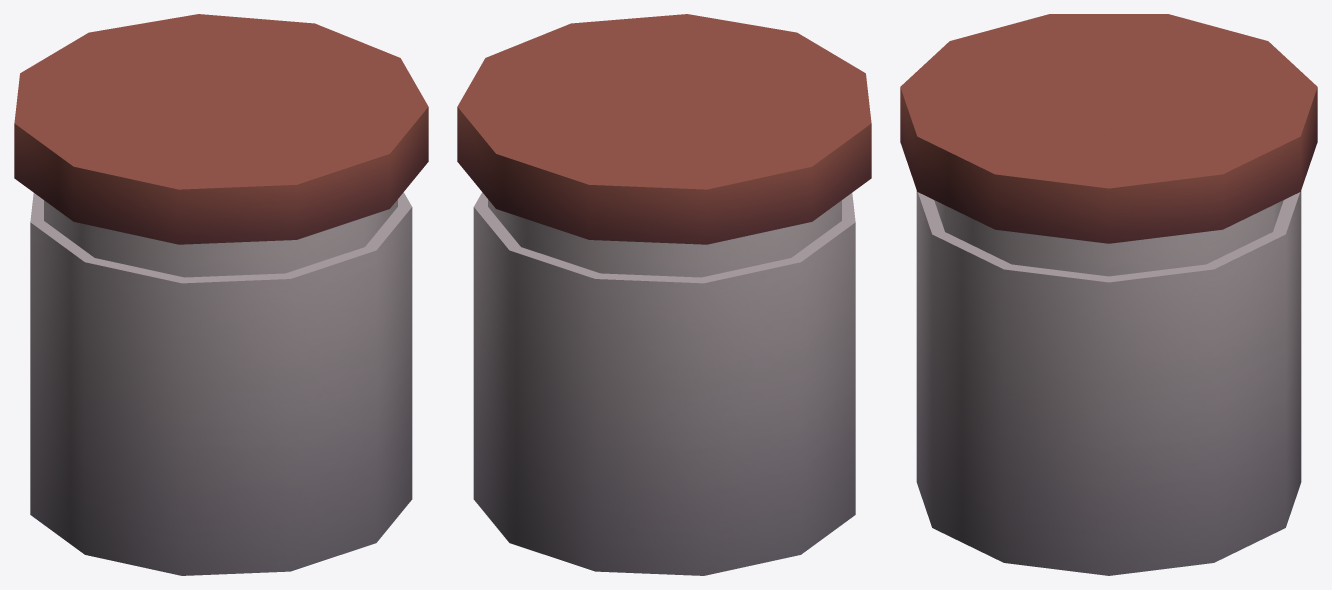
Rendered from M_jam.FBX.
3 views of the same model, side by side, from view 1: azimuth 30°, elevation 25°; view 2: azimuth 150°, elevation 25°; view 3: azimuth 270°, elevation 25° (orthographic).
Parts seen in each view (by area): view 1: Cylinder010; view 2: Cylinder010; view 3: Cylinder010.
Part boxes in pixels (x1,y1,x2,y2): Cylinder010: (14,14,428,575); Cylinder010: (457,14,871,575); Cylinder010: (900,14,1317,575).
Size of the model in its own units: 13.11 by 13.25 by 13.81.
